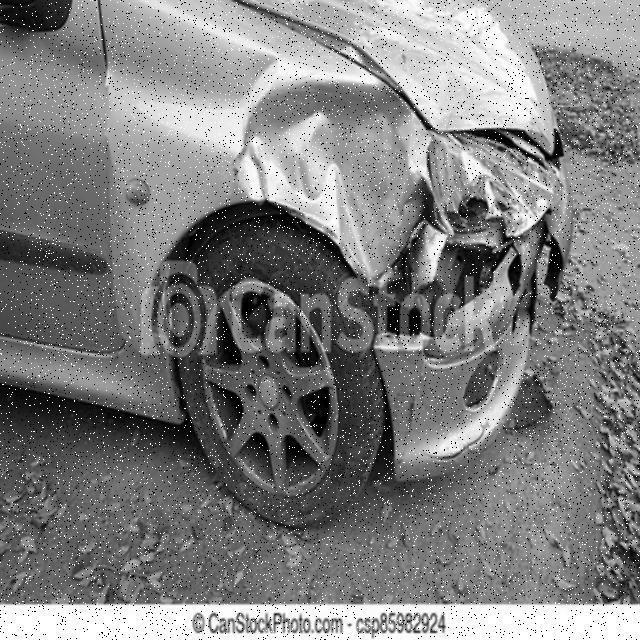Headlight-damage: (404, 120, 570, 245)
fender-dent: (97, 59, 395, 333)
front-bumper-dent: (353, 227, 564, 489)
